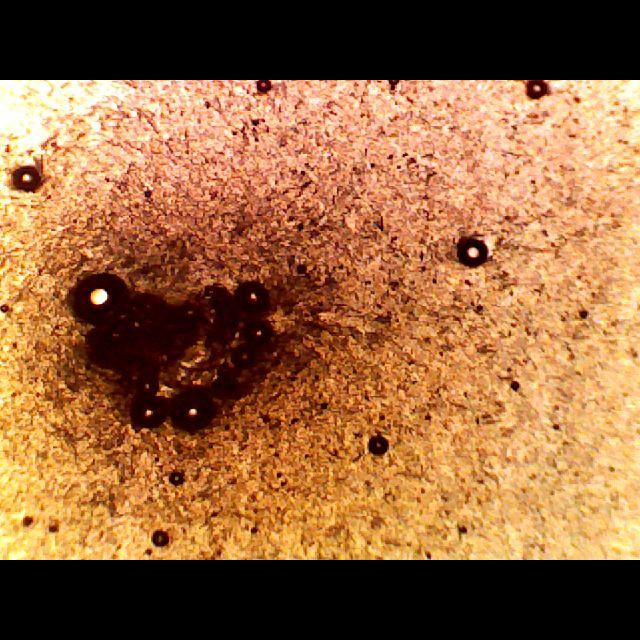microbeads: (65, 270, 128, 330), (165, 382, 222, 436), (456, 236, 492, 270)
